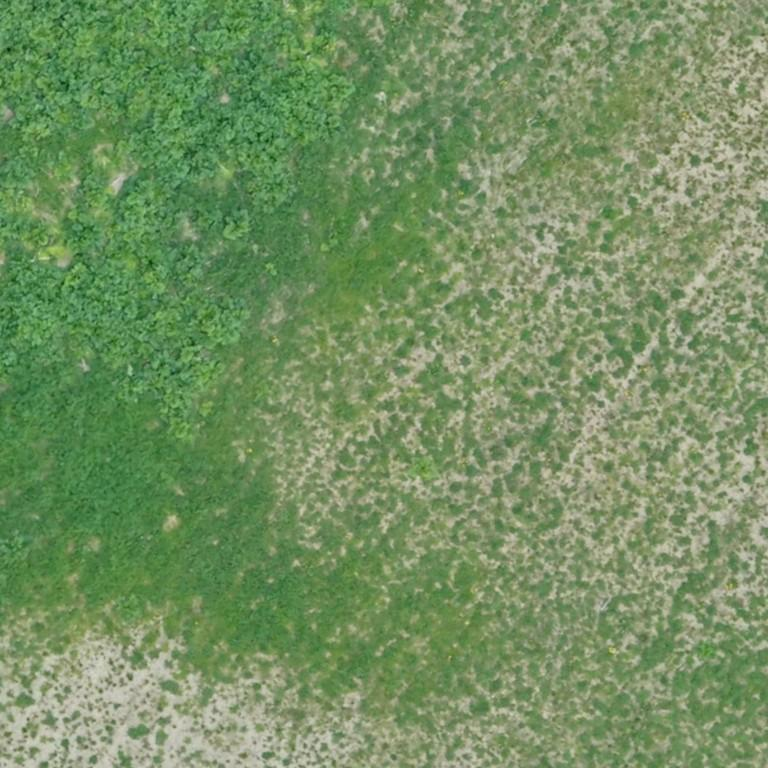hogweed: (0, 0, 352, 421)
